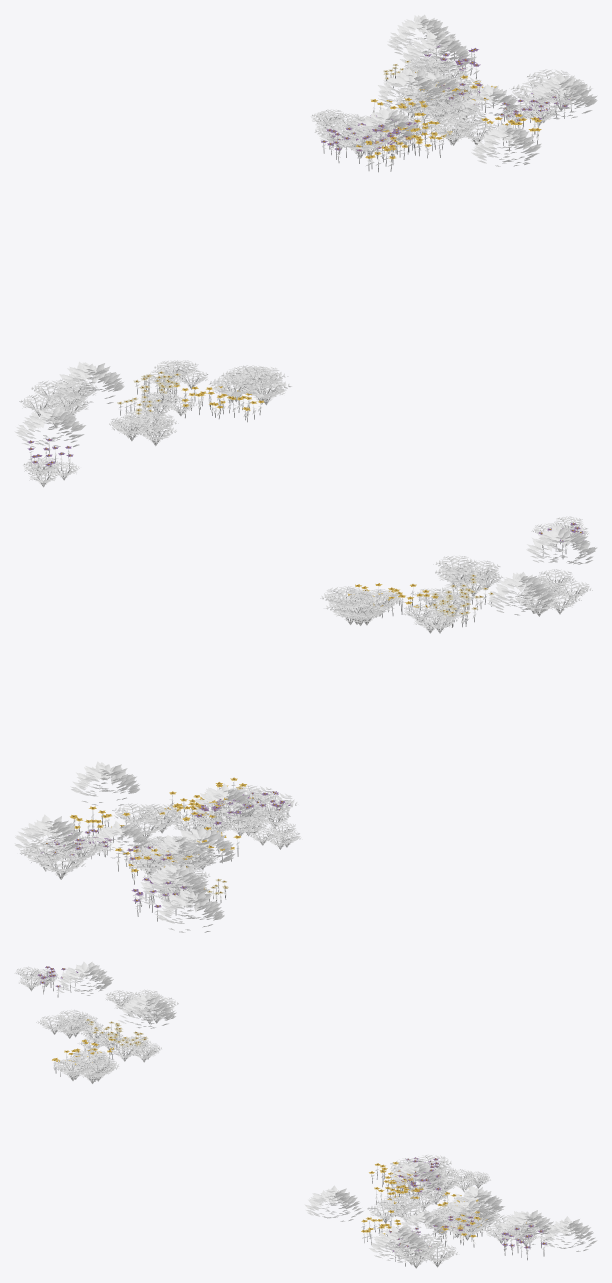
Rendered from SM_DF_Nature_2_1_Flora.fbx.
3 renders of one model, top to bottom at view 1: azimuth 30°, elevation 25°; view 2: azimuth 210°, elevation 25°; view 3: azimuth 270°, elevation 25°, orthographic. The views are drawn at different scales.
Visible parts, largest first — view 1: SM_DF_Nature_2_1_Flora; view 2: SM_DF_Nature_2_1_Flora; view 3: SM_DF_Nature_2_1_Flora.
Part boxes in pixels (<box>): SM_DF_Nature_2_1_Flora: <box>14,14,597,487</box>; SM_DF_Nature_2_1_Flora: <box>14,516,597,932</box>; SM_DF_Nature_2_1_Flora: <box>15,961,597,1268</box>.
Bounding box in the file's own units: 2766 × 2139 × 221.
